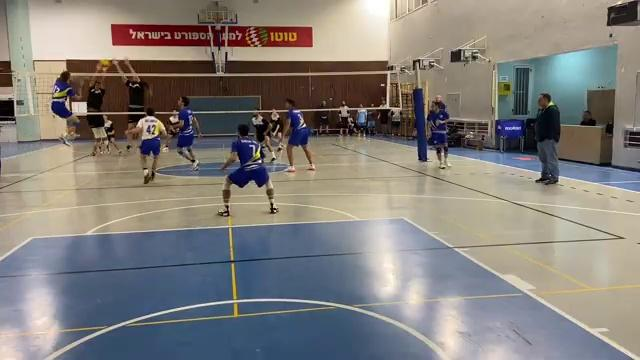ball: (98, 59, 113, 72)
